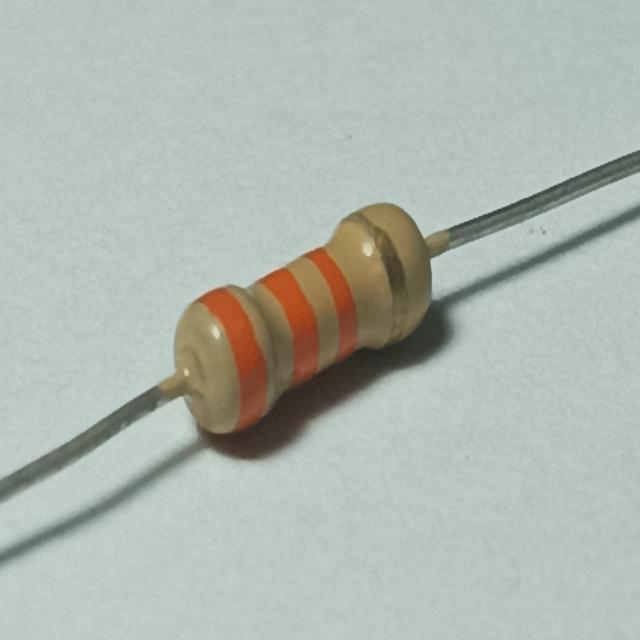33k ohms: (160, 188, 452, 449)
